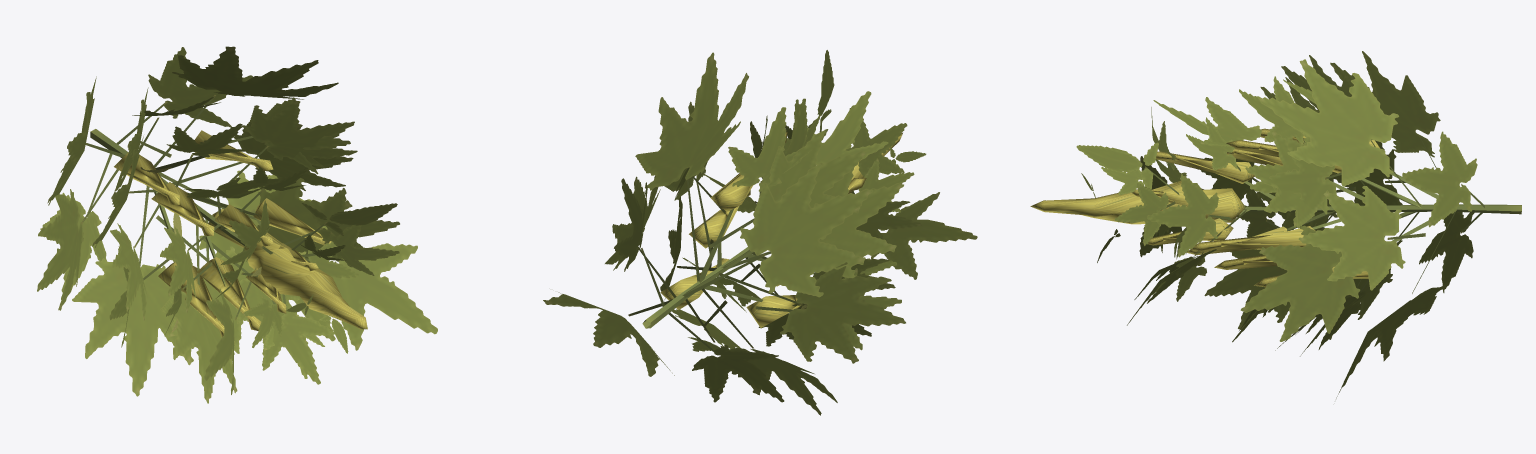
Rendered from p_gold_tree_flowering_c1_cards.obj.
3 renders of one model, left to right at view 1: azimuth 30°, elevation 25°; view 2: azimuth 150°, elevation 25°; view 3: azimuth 270°, elevation 25°, orthographic. The views are drawn at different scales.
Bounding box in the file's own units: 1.34 × 1.26 × 1.48.
Materials: 1 (1 with a texture image).
